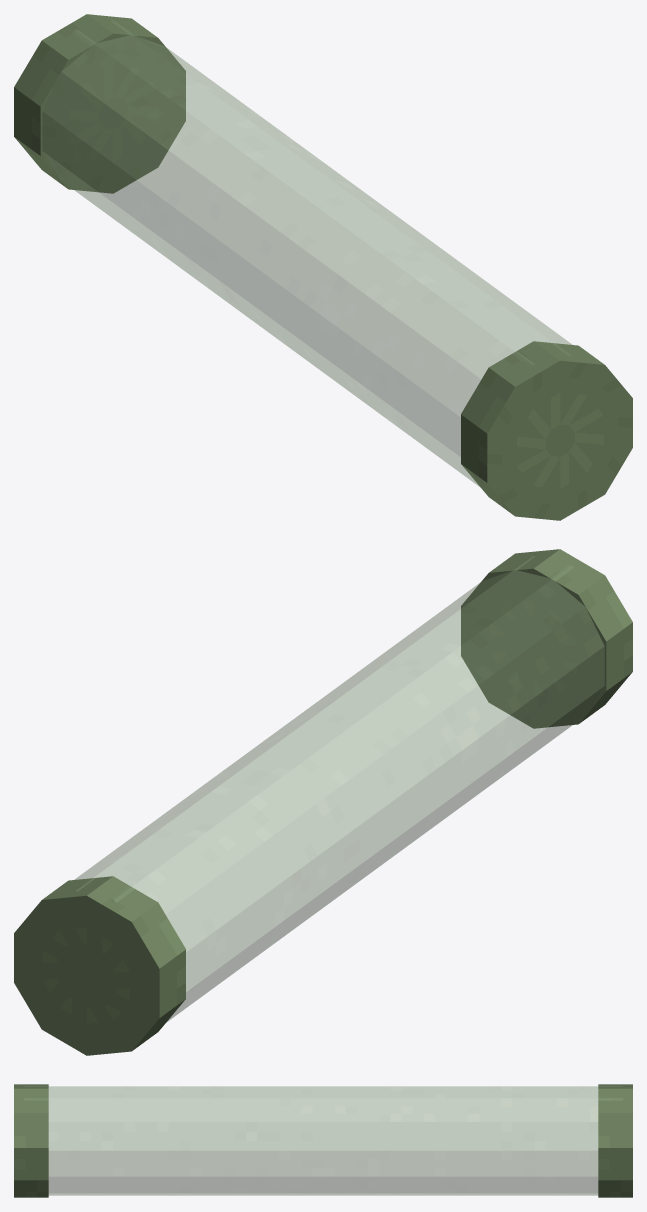
Rendered from glowstick_dead.glb.
3 renders of one model, top to bottom at view 1: azimuth 30°, elevation 25°; view 2: azimuth 150°, elevation 25°; view 3: azimuth 270°, elevation 25°, orthographic. The views are drawn at different scales.
Parts seen in each view (by area): view 1: block_spent translucent tube, block_sealed tube end (×2); view 2: block_spent translucent tube, block_sealed tube end (×2); view 3: block_spent translucent tube, block_sealed tube end (×2).
Part boxes in pixels (left/top/right/bottom): block_spent translucent tube: left=42, top=21, right=573, bottom=487; block_sealed tube end (×2): left=14, top=14, right=632, bottom=520; block_spent translucent tube: left=73, top=556, right=604, bottom=1022; block_sealed tube end (×2): left=14, top=549, right=632, bottom=1055; block_spent translucent tube: left=24, top=1086, right=623, bottom=1195; block_sealed tube end (×2): left=14, top=1084, right=632, bottom=1197.
Bounding box in the file's own units: 0.00986 × 0.0104 × 0.0556.
Materials: 2 (2 with a texture image).
